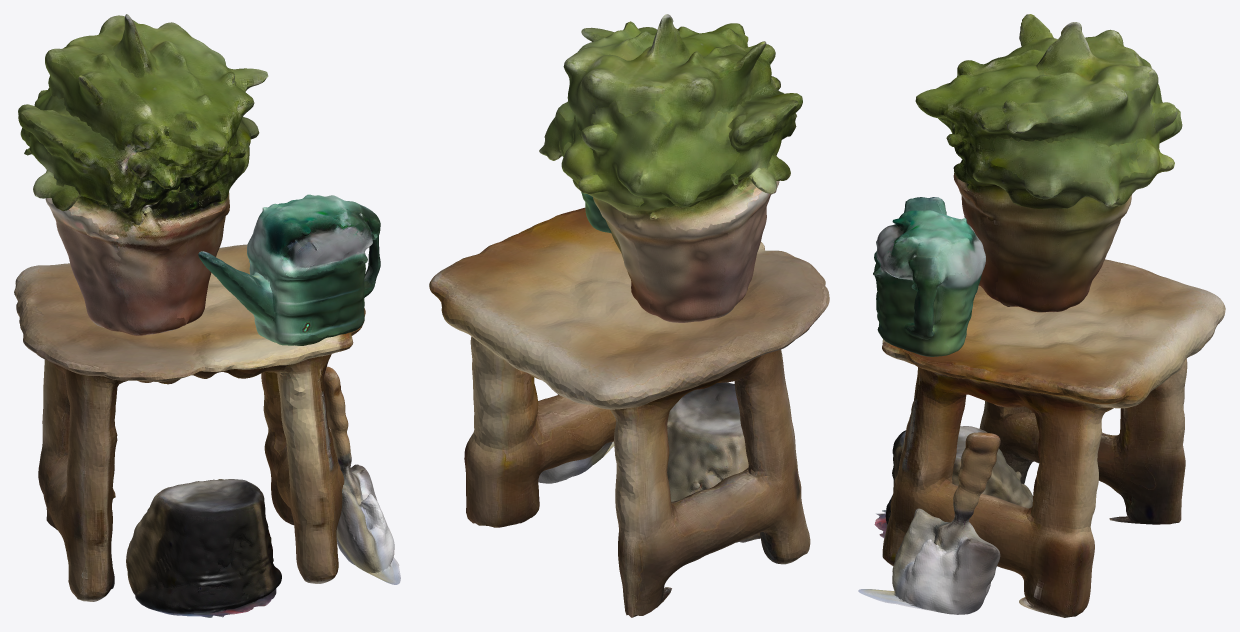
Rendered from gen3dsr_no_bg.glb.
The picture shows the model from 3 angles, left to right: view 1: azimuth 30°, elevation 25°; view 2: azimuth 150°, elevation 25°; view 3: azimuth 270°, elevation 25°; orthographic projection. The views are drawn at different scales.
Visible parts, largest first — view 1: 1.obj, 3.obj, 0.obj, 4.obj, 2.obj; view 2: 3.obj, 1.obj, 4.obj, 2.obj, 0.obj; view 3: 3.obj, 1.obj, 0.obj, 2.obj, 4.obj.
Part boxes in pixels (box(x1,y1,x2,y2)): 1.obj: box(18, 14, 268, 335); 3.obj: box(14, 244, 365, 601); 0.obj: box(198, 194, 380, 345); 4.obj: box(126, 479, 281, 617); 2.obj: box(324, 366, 400, 584); 3.obj: box(429, 207, 829, 617); 1.obj: box(539, 14, 802, 322); 4.obj: box(667, 382, 760, 542); 2.obj: box(538, 394, 614, 483); 0.obj: box(581, 191, 611, 233); 3.obj: box(882, 259, 1225, 617); 1.obj: box(915, 14, 1182, 312); 0.obj: box(873, 197, 985, 356); 2.obj: box(858, 432, 1000, 614); 4.obj: box(874, 426, 1032, 538).
Size of the model in its own units: 0.7079 by 1.13 by 0.7359.
Materials: 5 (5 with a texture image).
